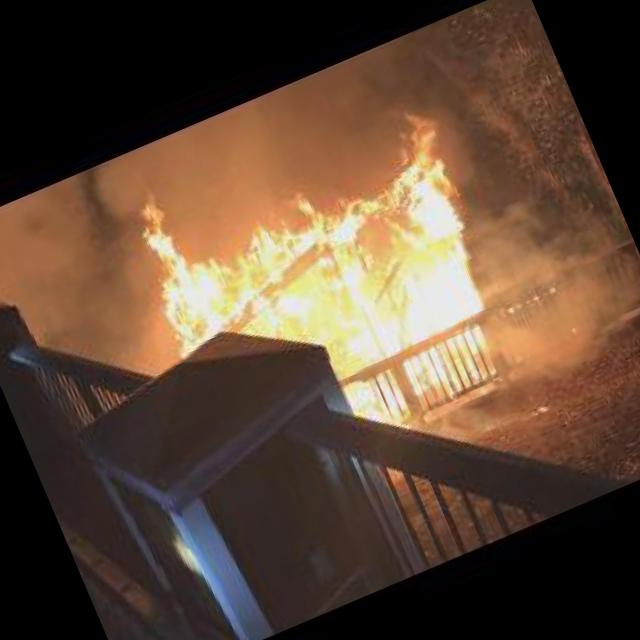fire: (116, 74, 547, 480)
